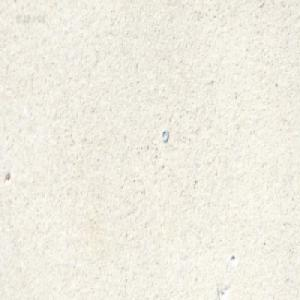Washer: (161, 127, 169, 142)
